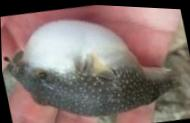fish: (8, 19, 178, 115)
